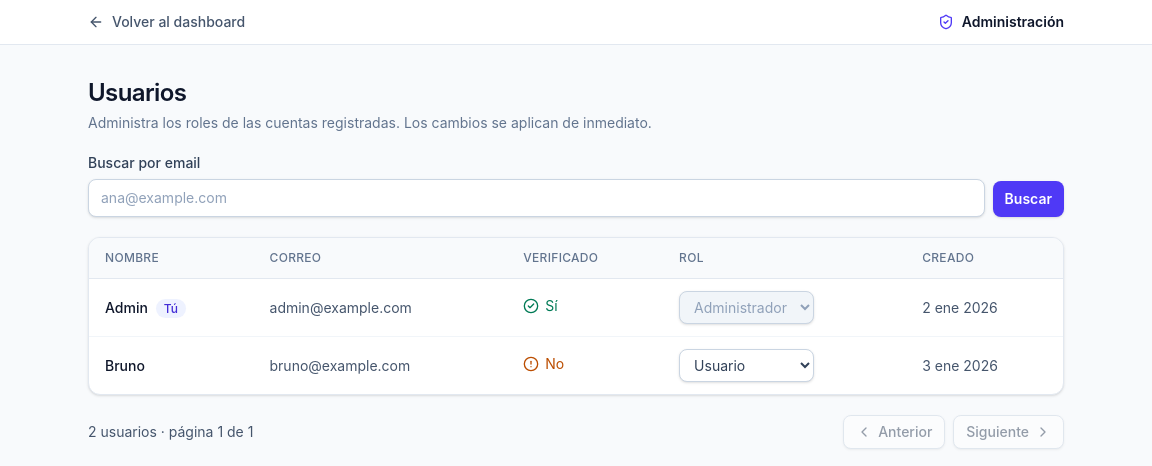
Scenario: AdminUsersPage › limpia el filtro y vuelve a listar todo
The image size is (1152, 466).
Expected: the text "bruno@example.com" is shown, [254,336,507,394]
Type "nadie" into the search field labelled "Buscar por email" at (536, 198), box [88,179,985,217]
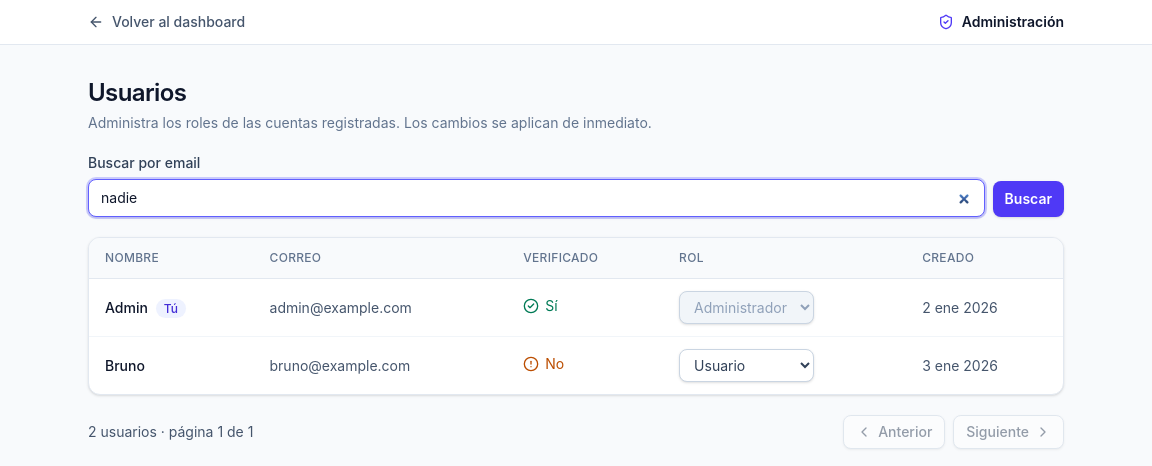
Click the button "Buscar" at (1028, 199), box [993,181,1064,217]
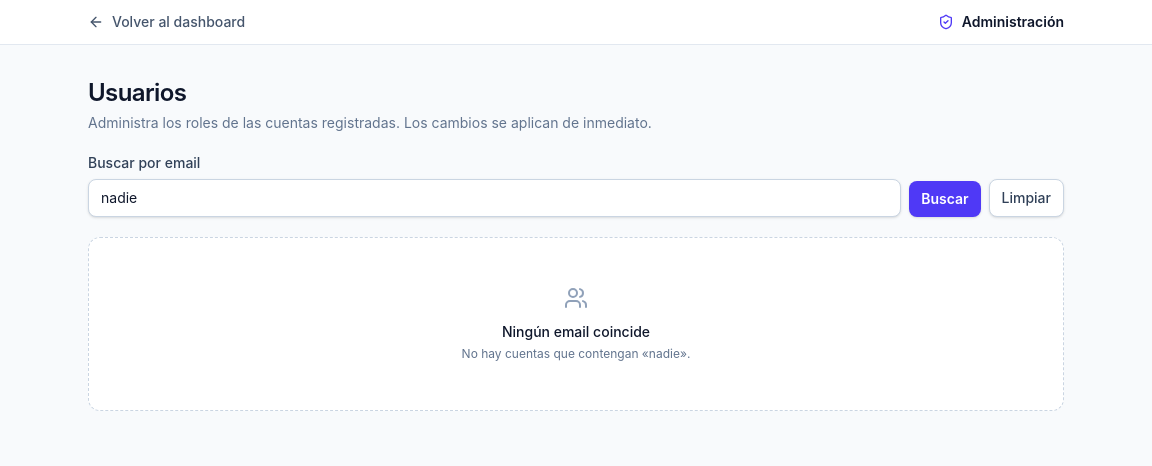
Result: the text "Ningún email coincide" is shown at [502,323,650,340]
Click the button "Limpiar" at (1026, 198), box [989,179,1064,217]
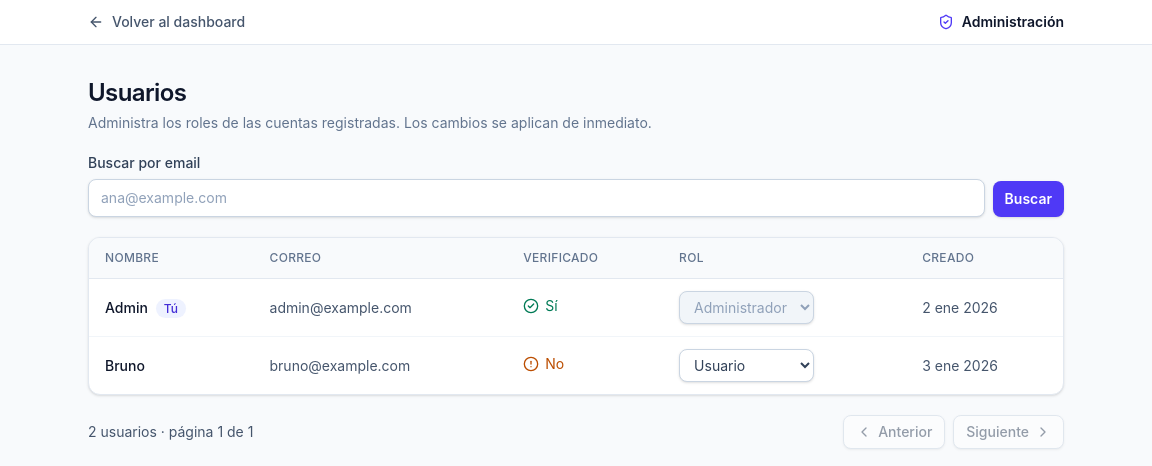
Result: the text "bruno@example.com" is shown at [254,336,507,394]
Result: the search field labelled "Buscar por email" is empty at [88,179,985,217]
